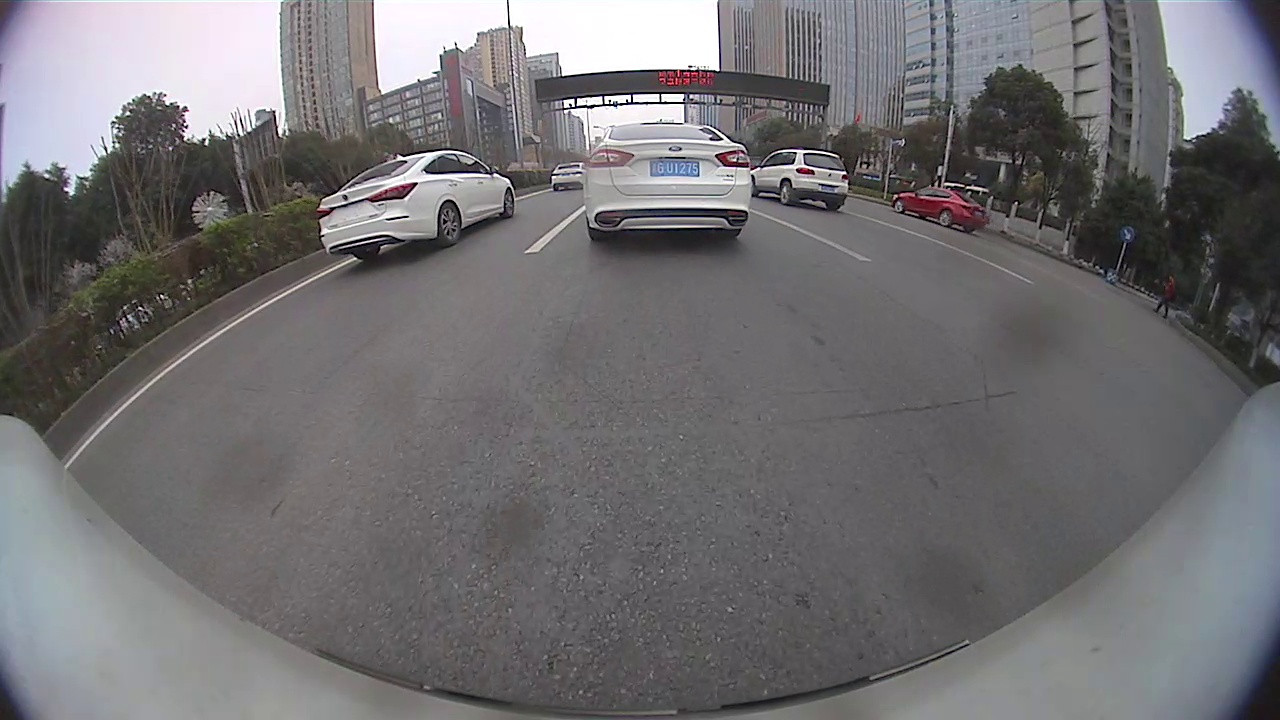car: (314, 147, 519, 259), (583, 120, 750, 239), (752, 147, 852, 214), (890, 185, 991, 233), (552, 159, 585, 190)
front: (503, 191, 515, 219), (893, 198, 904, 213)
person: (1162, 273, 1172, 319)
rear: (436, 202, 463, 247), (780, 179, 791, 206), (938, 211, 952, 228)
